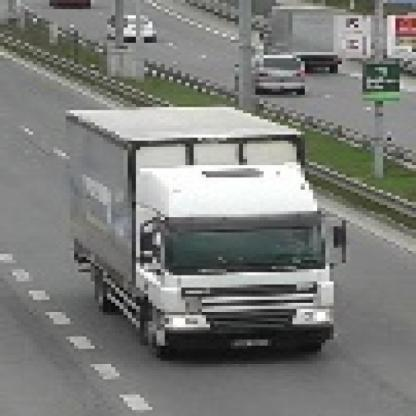truck: (71, 105, 351, 359)
